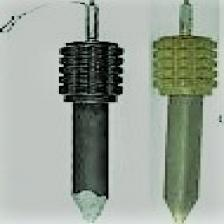POMZ2: (144, 3, 224, 222), (55, 0, 128, 224)
